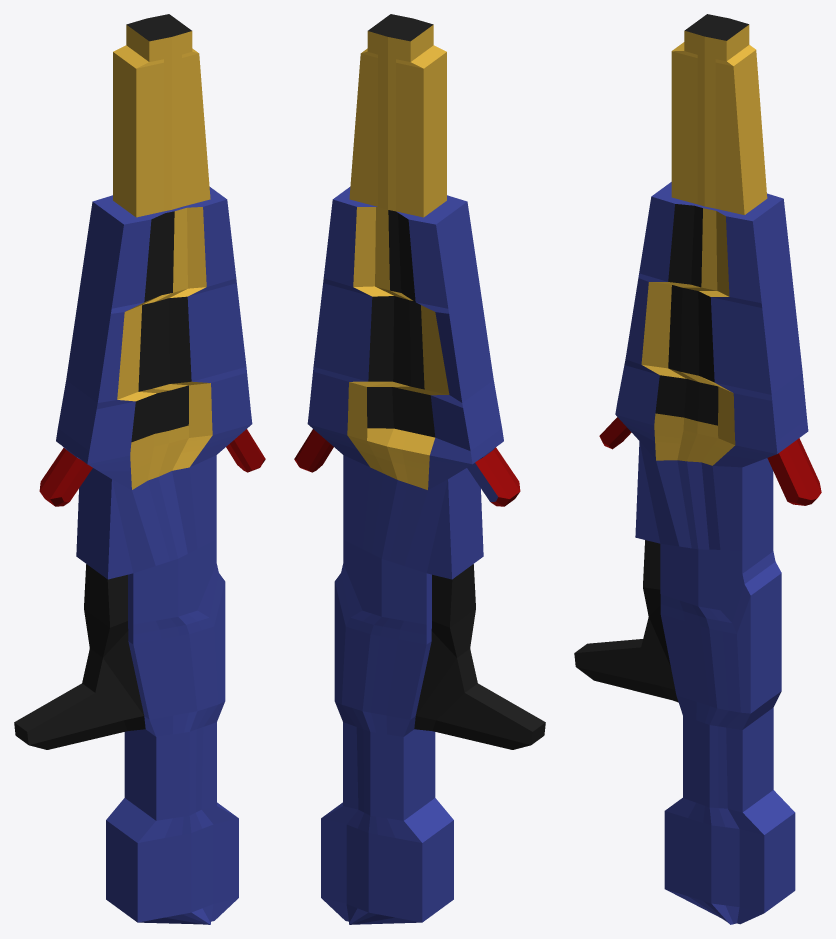
Rendered from Varis_FullPower.fbx.
The picture shows the model from 3 angles, left to right: view 1: azimuth 30°, elevation 25°; view 2: azimuth 150°, elevation 25°; view 3: azimuth 330°, elevation 25°; orthographic projection.
Visible parts, largest first — view 1: Varis_FullPower; view 2: Varis_FullPower; view 3: Varis_FullPower.
Boxes of the visible parts, x1=… form: Varis_FullPower: x1=14, y1=14, x2=265, y2=924; Varis_FullPower: x1=294, y1=14, x2=545, y2=924; Varis_FullPower: x1=574, y1=14, x2=821, y2=924.
Bounding box in the file's own units: 2.12 × 7.49 × 0.576.
